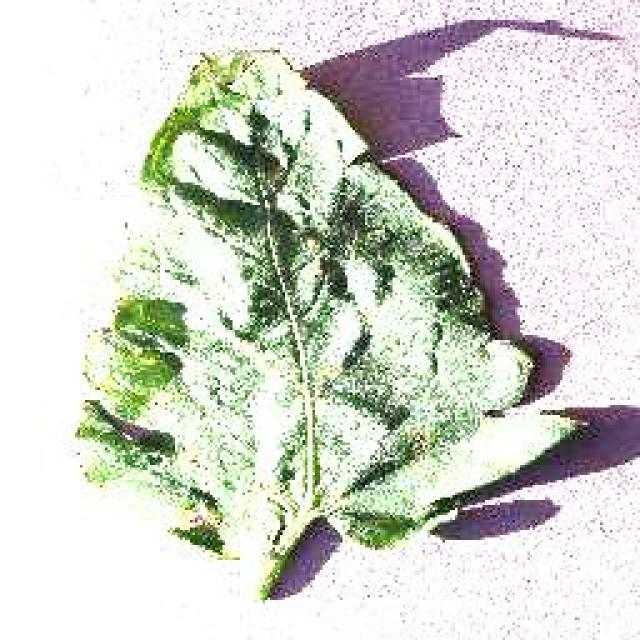Tomato___Target_Spot: (75, 50, 575, 598)
